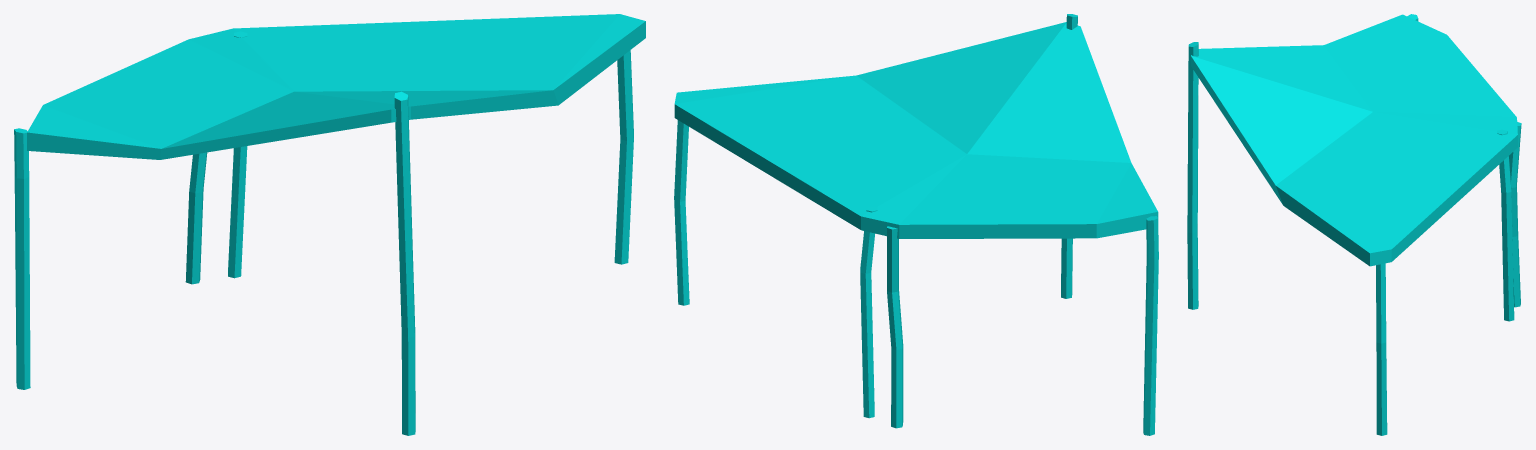
Rendered from SM_Bld_Tent_02_Collision.fbx.
3 renders of one model, left to right at view 1: azimuth 30°, elevation 25°; view 2: azimuth 150°, elevation 25°; view 3: azimuth 270°, elevation 25°, orthographic. The views are drawn at different scales.
Visible parts, largest first — view 1: SM_Bld_Tent_02_Collision; view 2: SM_Bld_Tent_02_Collision; view 3: SM_Bld_Tent_02_Collision.
Part boxes in pixels (x1,y1,x2,y2): SM_Bld_Tent_02_Collision: (14,14,645,435); SM_Bld_Tent_02_Collision: (674,14,1158,435); SM_Bld_Tent_02_Collision: (1187,14,1521,435).
Bounding box in the file's own units: 618 × 332 × 385.
